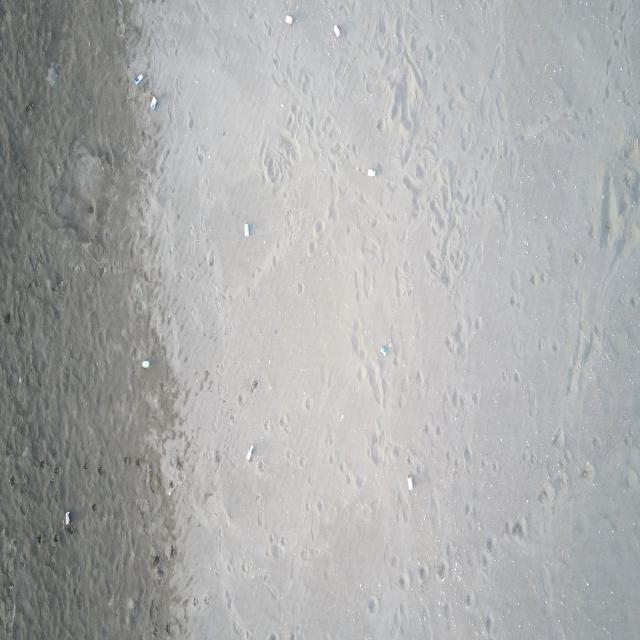Garbage: (47, 63, 59, 87), (132, 72, 143, 84), (379, 344, 390, 355), (246, 444, 252, 460), (332, 24, 340, 36), (150, 96, 156, 110), (64, 511, 70, 524), (284, 15, 292, 24), (367, 167, 375, 176), (407, 475, 412, 489), (243, 223, 248, 236), (141, 360, 148, 367)
